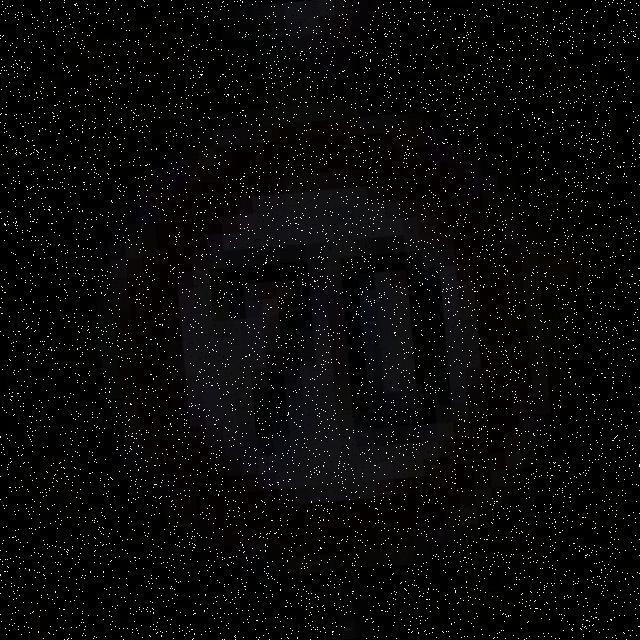Ograniczenie predkosci do 70: (89, 92, 567, 581)
